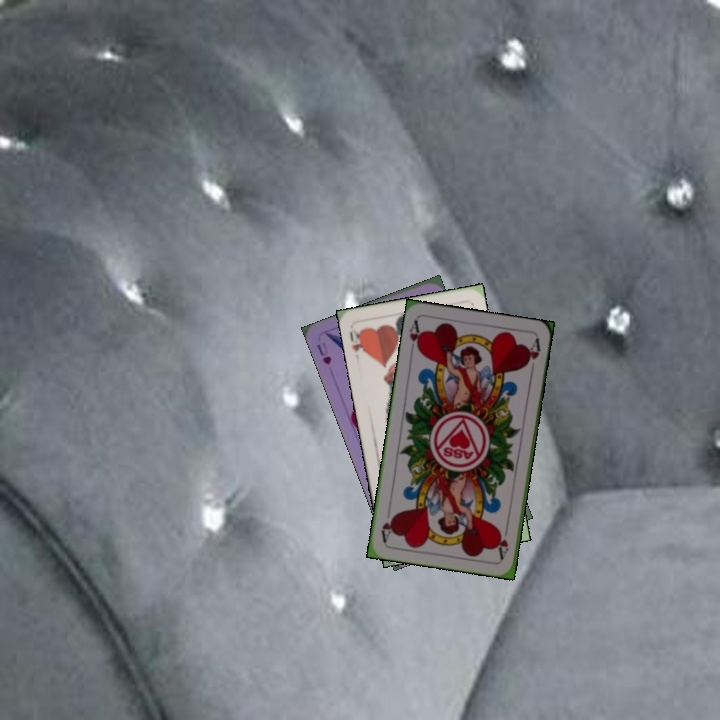HA: (405, 316, 425, 356), (494, 521, 511, 561)
HO: (345, 325, 368, 364)
HU: (313, 338, 334, 368)
